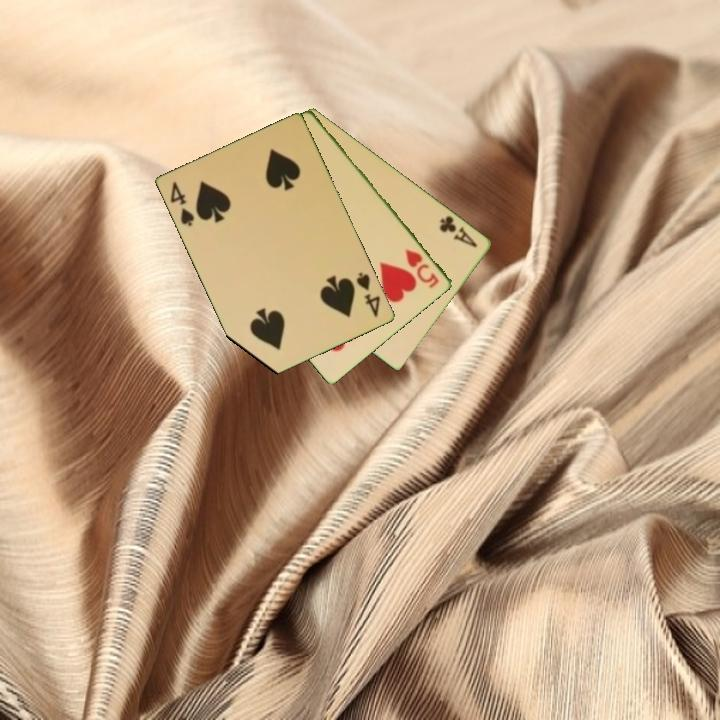4s: (167, 178, 198, 230), (353, 269, 384, 320)
5h: (402, 246, 442, 291)
Ac: (436, 212, 481, 250)
